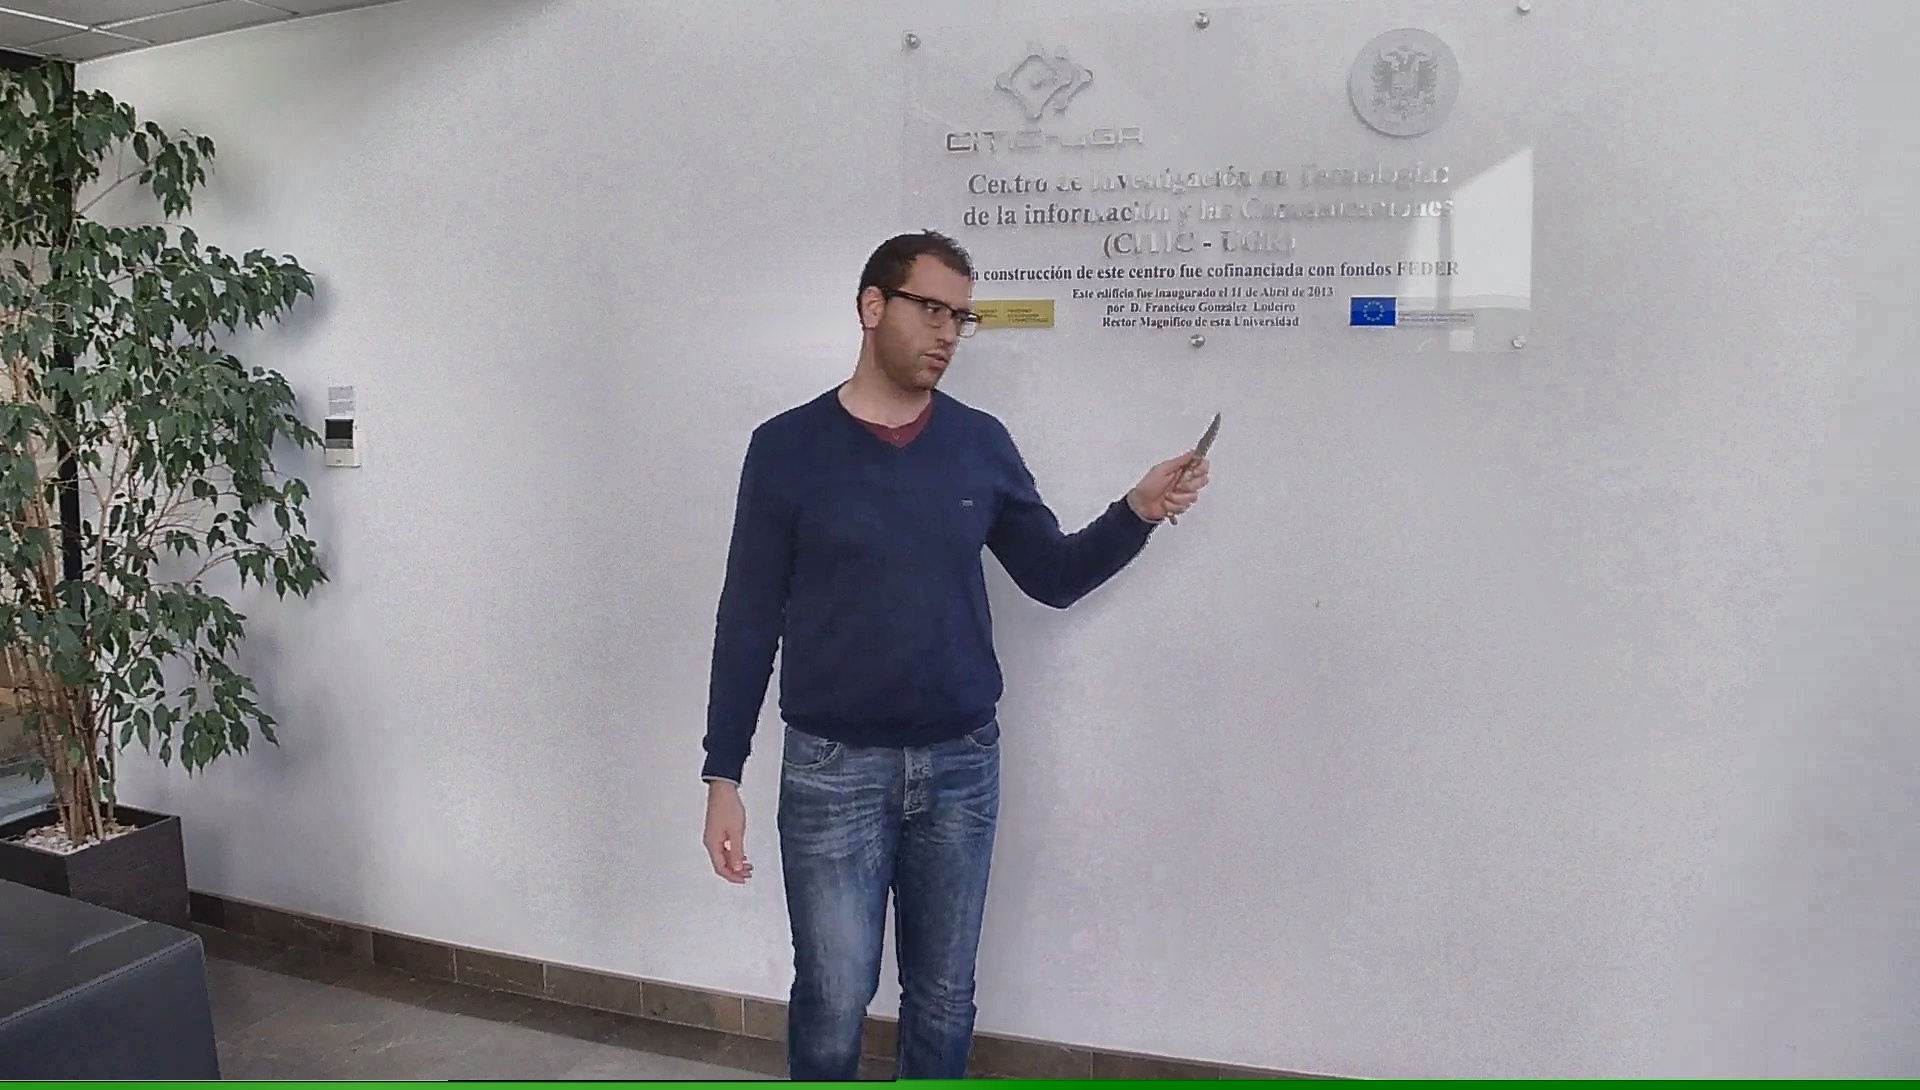knife: (1160, 401, 1228, 532)
